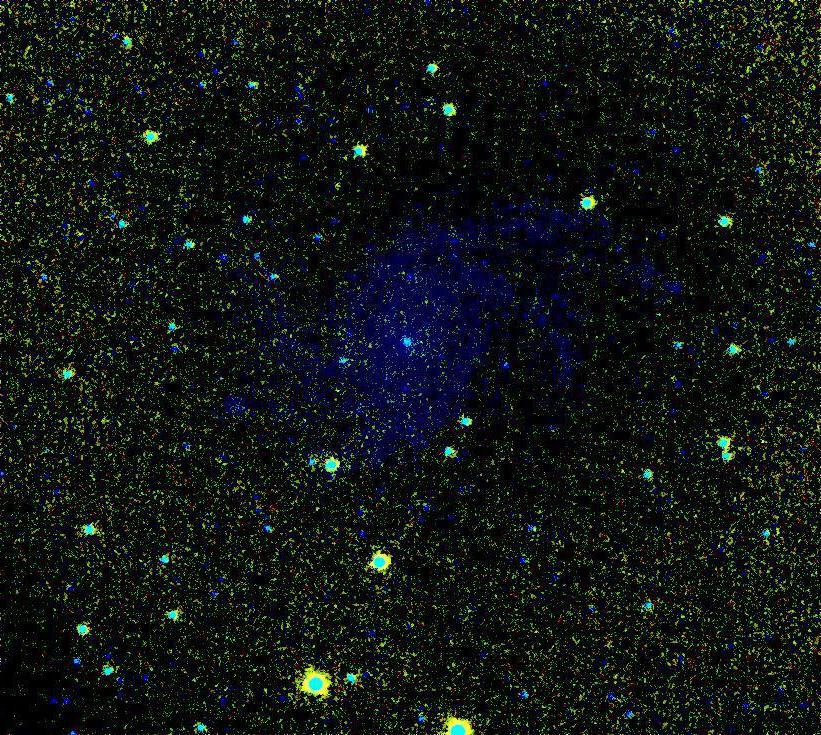star: (323, 171, 353, 201)
